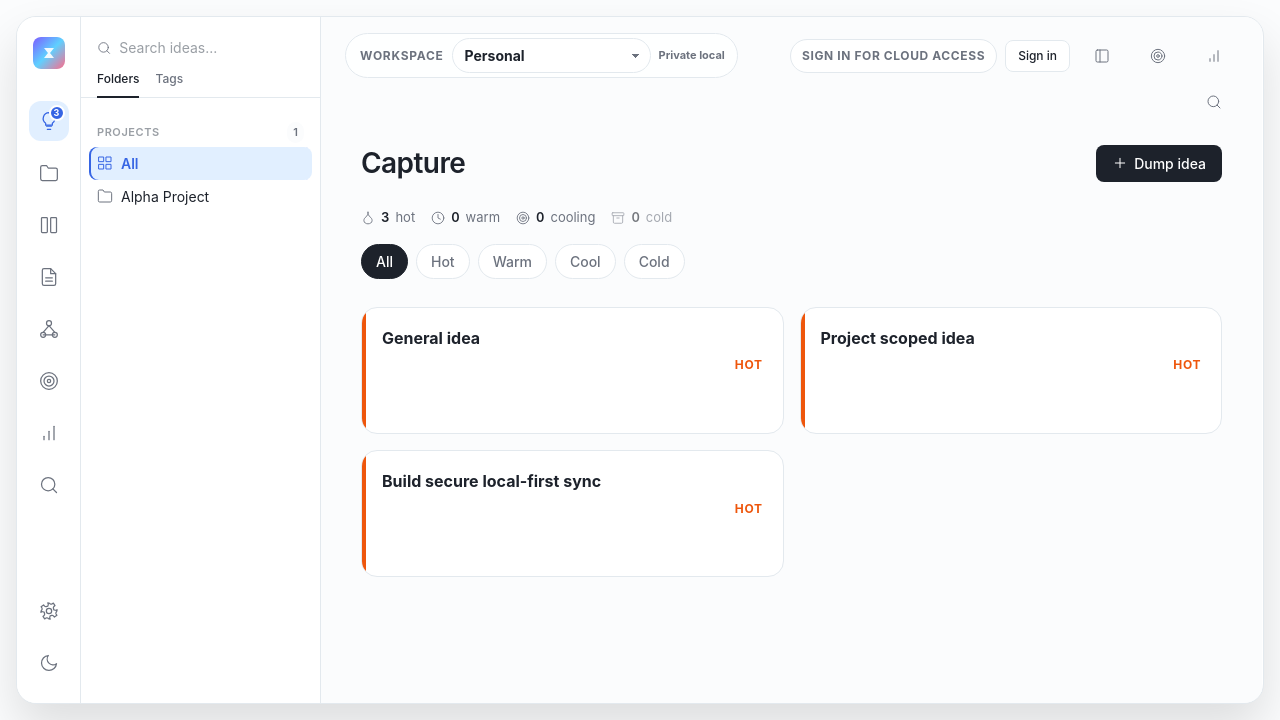
Scenario: App shell › enhances a short idea title when Enhance with AI is checked
This screenshot has width=1280, height=720.
Click the button "Dump idea": (1159, 163) top-left (1096, 144), bottom-right (1222, 182)
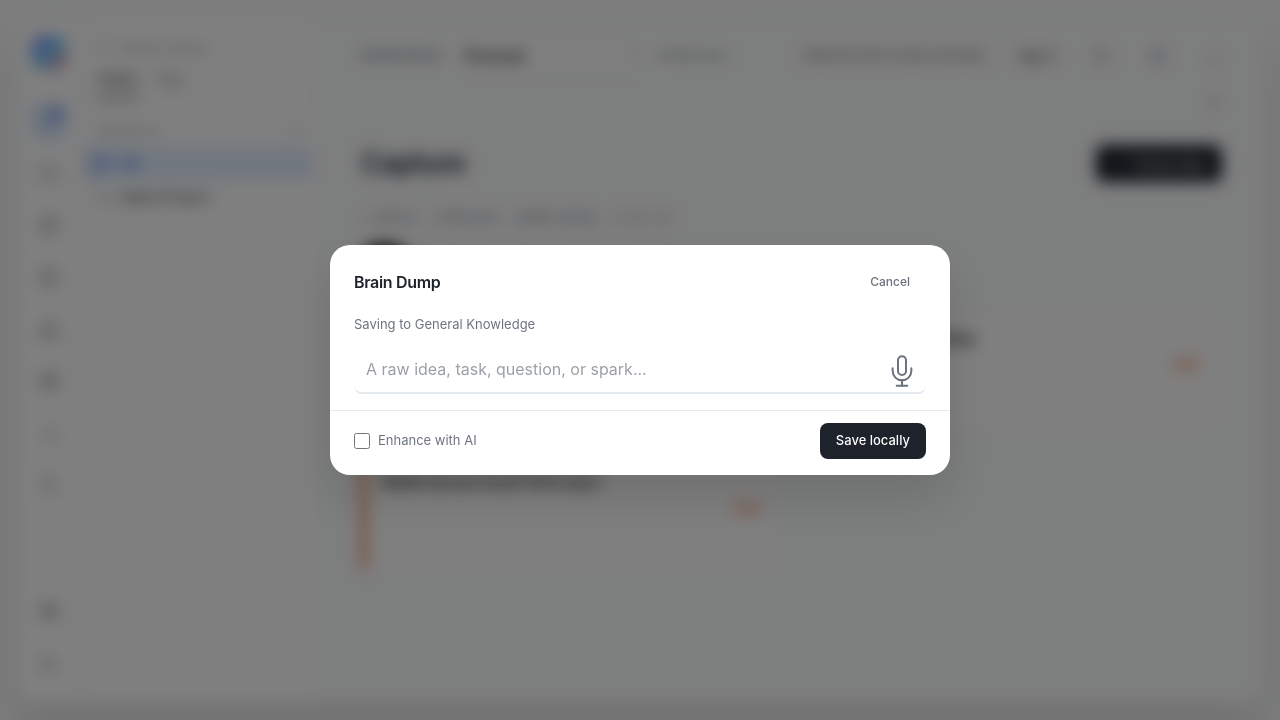
Now the checkbox labelled "Enhance with AI" is shown
Click the checkbox labelled "Enhance with AI": (362, 441) top-left (354, 433), bottom-right (370, 449)
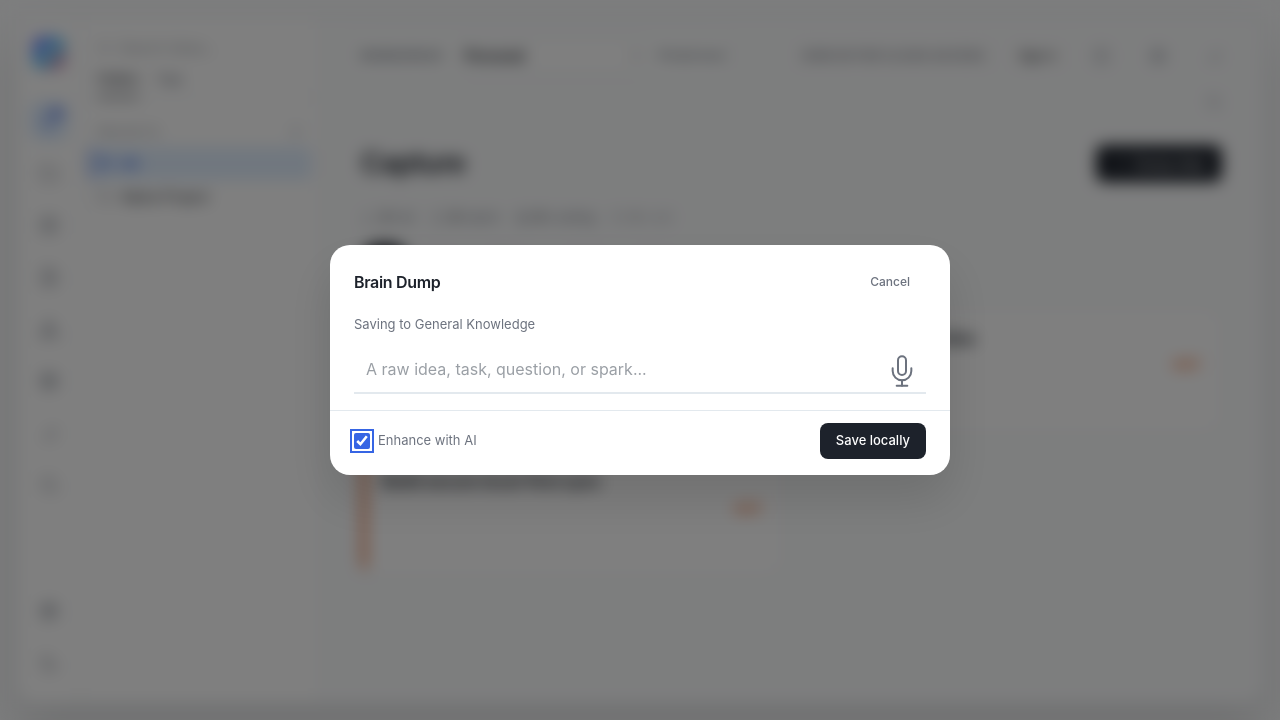
In the field named "what should not be lost": (640, 370) top-left (354, 347), bottom-right (926, 394), type "build a todo app"
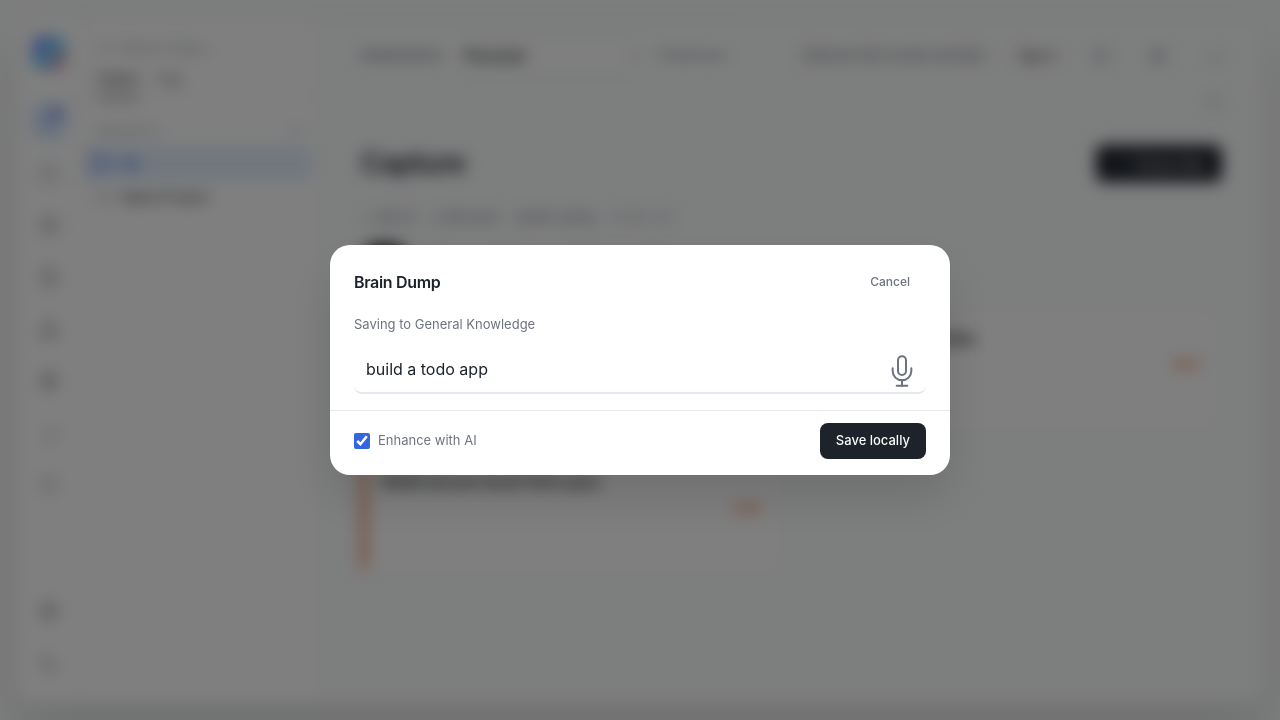
Click the button "Save locally": (873, 441) top-left (820, 423), bottom-right (926, 459)
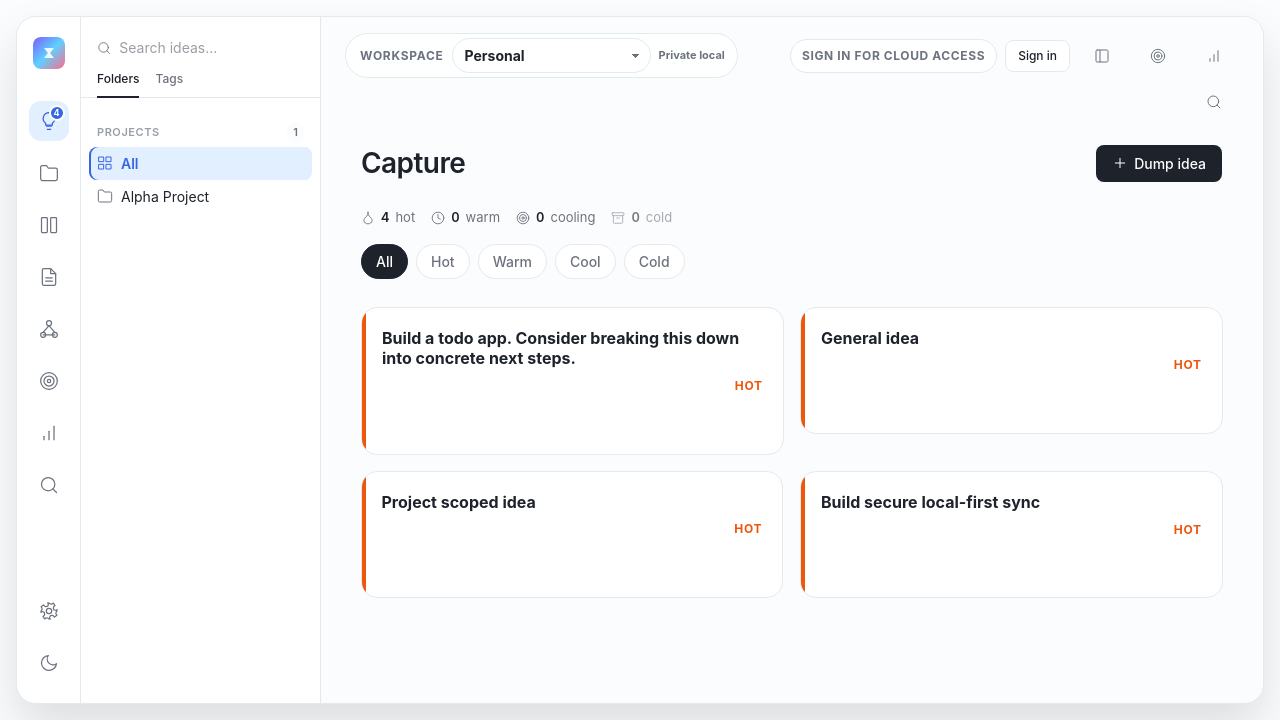
Now the text "Build a todo app. Consider breaking this down into concrete next steps." is shown, box top-left (382, 328), bottom-right (762, 369)
